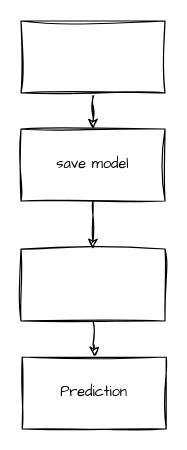
Some shapes in this 187 by 450 pixel diagram are drawn without their labels. The centre of each missing label's shape, as x and y in pixels:
"Streamlit app" goes at (x=92, y=284).
"Training model" goes at (x=92, y=56).
